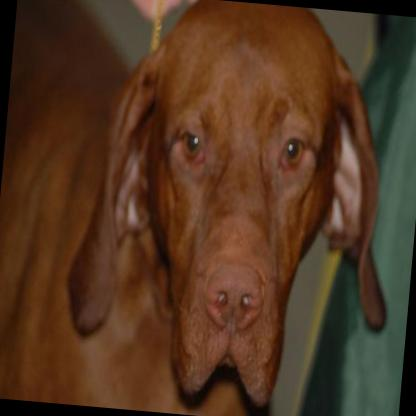vizsla: (0, 0, 414, 416)
